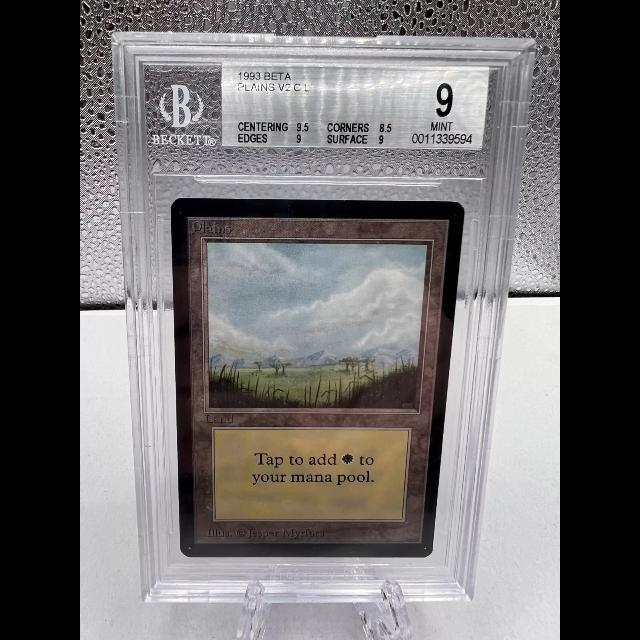bgs_label: (221, 63, 491, 149)
bgs_slab: (111, 30, 537, 602)
card: (169, 197, 466, 558)
